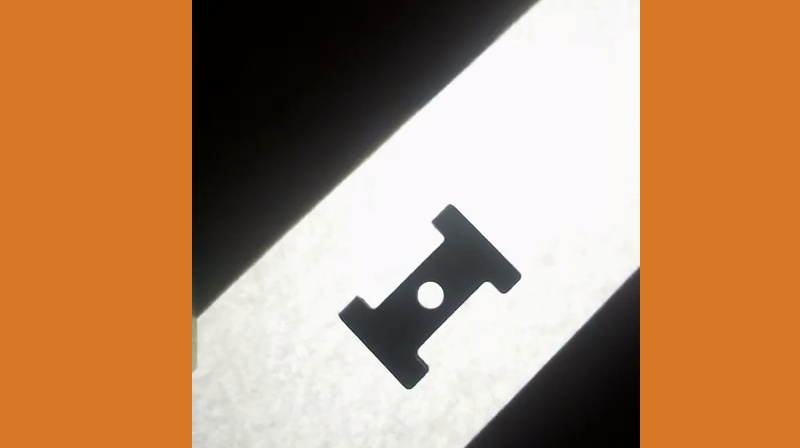O002: (334, 202, 523, 393)
